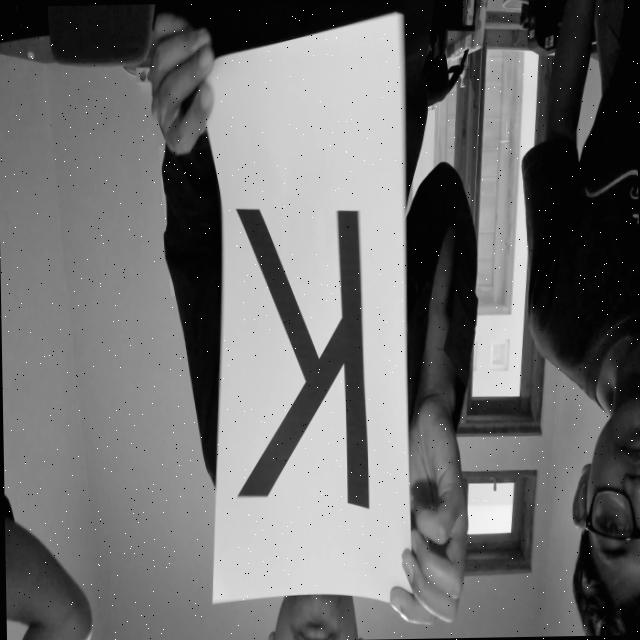k: (202, 161, 394, 544)
